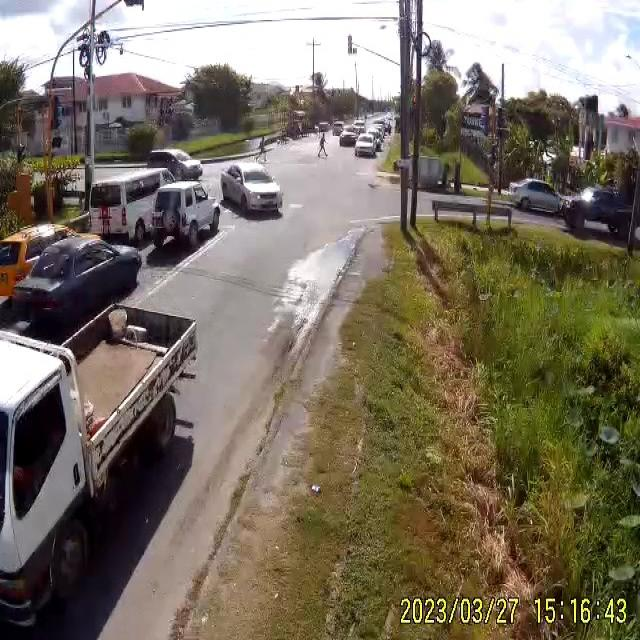car: (4, 232, 142, 337), (81, 163, 169, 244), (148, 179, 219, 247), (563, 186, 631, 238), (219, 163, 282, 218), (146, 149, 202, 184), (509, 180, 564, 214), (355, 134, 377, 156), (338, 130, 358, 146)
person: (315, 132, 326, 156)
